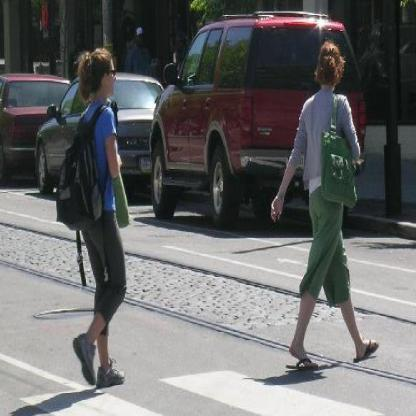person: (269, 38, 382, 377), (54, 48, 137, 390)
